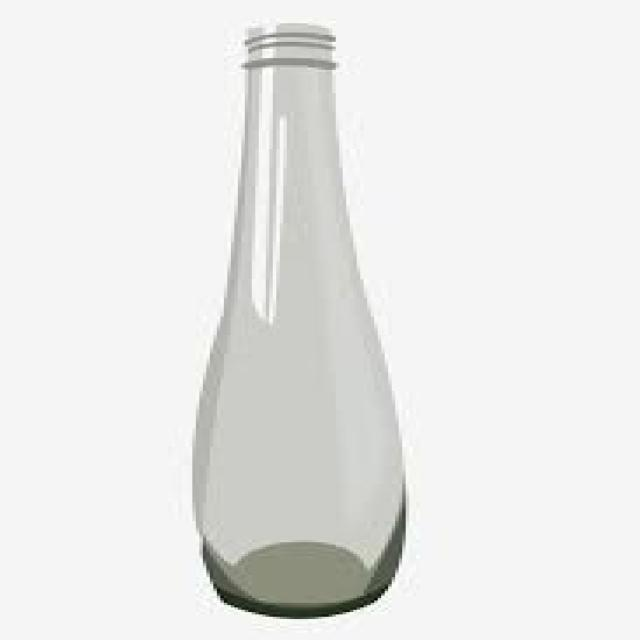Glass: (188, 26, 403, 623)
